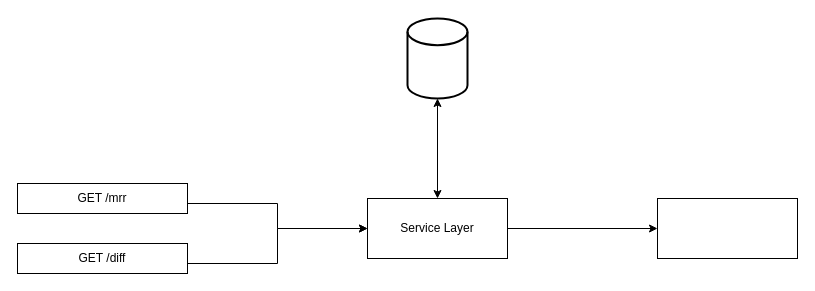
Some shapes in this 815 by 291 pixel diagram are drawn without their labels. Each missing label, with the centre of its shape:
"In Memory Cache" belongs at (x=437, y=58).
"Subscriptions API" belongs at (x=727, y=228).
